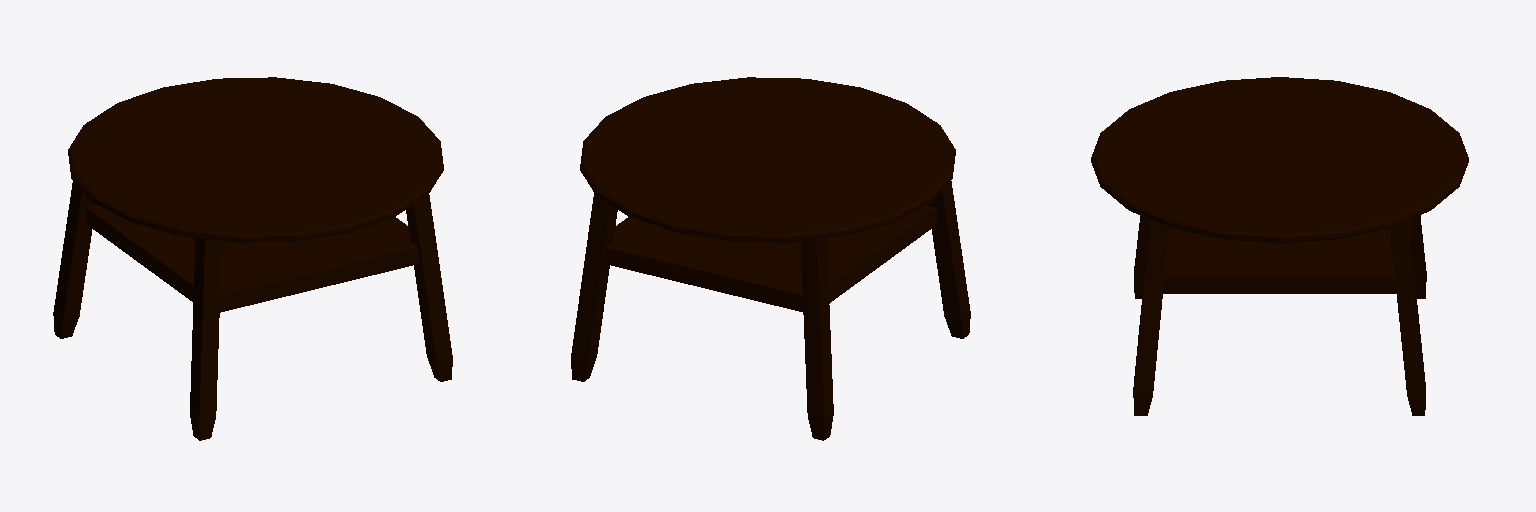
Rendered from Table.obj.
3 renders of one model, left to right at view 1: azimuth 30°, elevation 25°; view 2: azimuth 150°, elevation 25°; view 3: azimuth 270°, elevation 25°, orthographic.
Visible parts, largest first — view 1: TableTop, TableMiddle, TableLeg1 TableLeg2 TableLeg3 TableLeg4; view 2: TableTop, TableMiddle, TableLeg1 TableLeg2 TableLeg3 TableLeg4; view 3: TableTop, TableMiddle, TableLeg1 TableLeg2 TableLeg3 TableLeg4.
Boxes of the visible parts, box(x1,y1,x2,y2) form: TableTop: box(68, 77, 443, 242); TableMiddle: box(86, 205, 419, 312); TableLeg1 TableLeg2 TableLeg3 TableLeg4: box(53, 181, 452, 440); TableTop: box(580, 77, 955, 242); TableMiddle: box(604, 205, 936, 311); TableLeg1 TableLeg2 TableLeg3 TableLeg4: box(571, 181, 970, 440); TableTop: box(1091, 77, 1468, 242); TableMiddle: box(1149, 219, 1410, 293); TableLeg1 TableLeg2 TableLeg3 TableLeg4: box(1133, 215, 1426, 415).
Bounding box in the file's own units: 166 × 97.16 × 166.